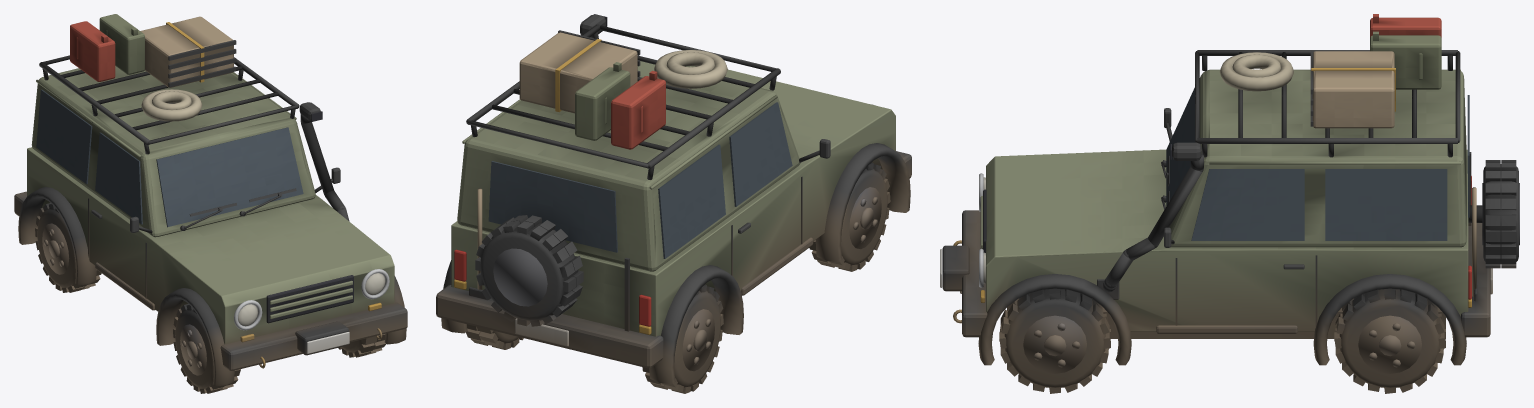
Rendered from jeep_expedition.glb.
3 renders of one model, left to right at view 1: azimuth 30°, elevation 25°; view 2: azimuth 150°, elevation 25°; view 3: azimuth 270°, elevation 25°, orthographic. The views are drawn at different scales.
Parts seen in each view (by area): view 1: Jeep; view 2: Jeep; view 3: Jeep.
Boxes of the visible parts, left/top/right/bottom form: Jeep: left=14, top=14, right=407, bottom=393; Jeep: left=436, top=14, right=911, bottom=393; Jeep: left=940, top=14, right=1519, bottom=393.
Bounding box in the file's own units: 1.97 × 2.23 × 3.89.
